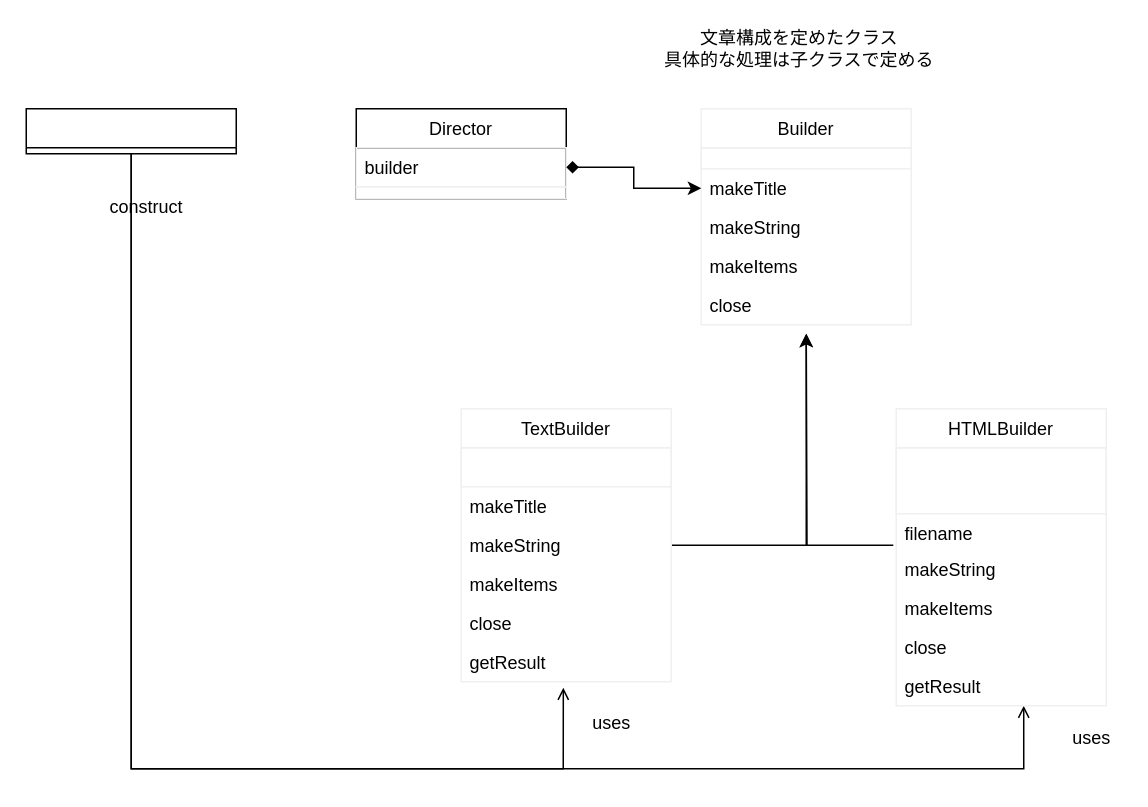
Some shapes in this 1148 by 807 pixel diagram are drawn without their labels. The centre of each missing label's shape, as x and y in pixels:
"filename writer" goes at [1000,480].
"Main" goes at [130,130].
"string" goes at [565,466].
